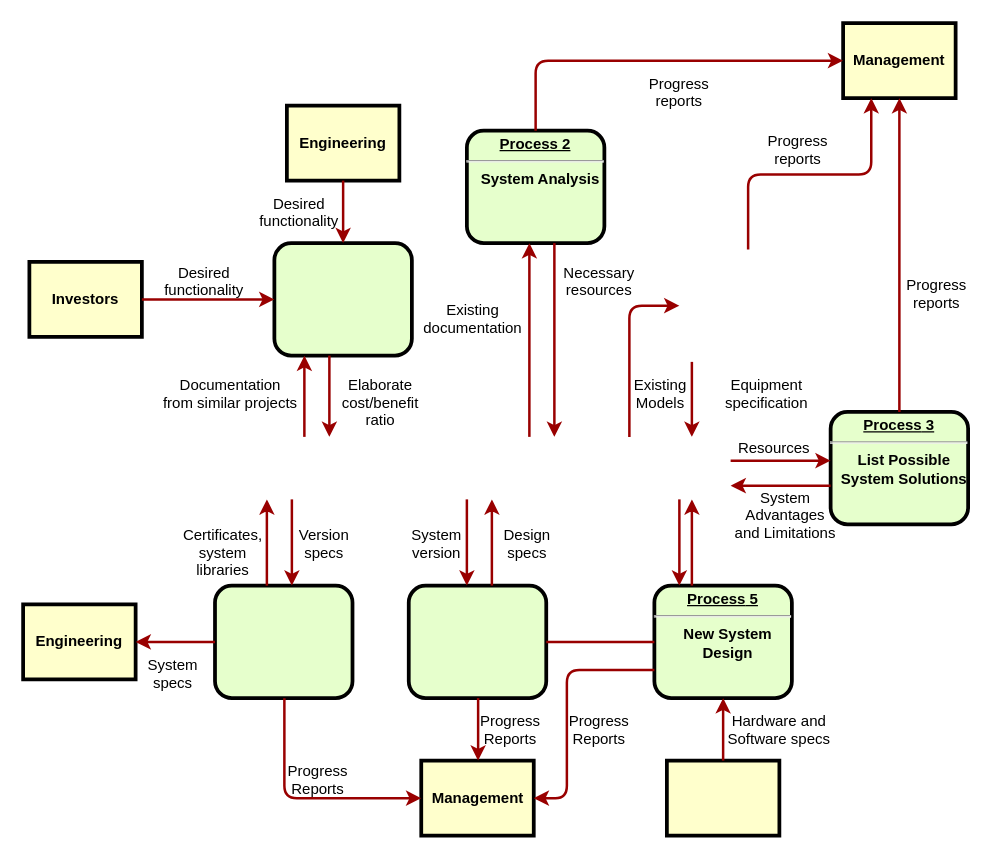
This 991x859 diagram has some shape labels left out. The shapes that lost their labels are listed below. From the top down, each one's box as (x1, y1, x2, y2) in pixels, then its label:
(272, 241, 413, 357): Process 1 System Study Preparation
(212, 583, 354, 699): Process 6 New System Construction
(406, 583, 548, 699): Process 7 New System Startup and Testing
(664, 758, 781, 837): Vendors
